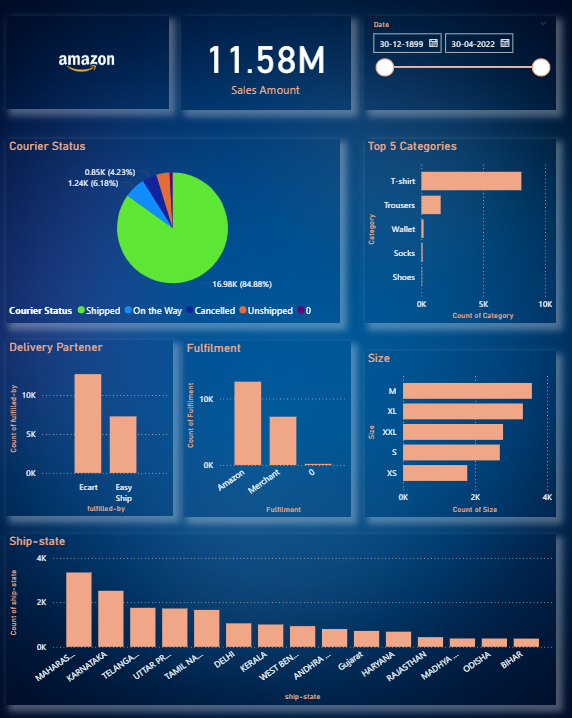

The dashboard page shown, as its layout file describes it:
{"tool":"powerbi","page":{"name":"Page 1","canvas":[816,1056],"ordinal":0},"visuals":[{"type":"image","box":[12.4,35.4,230,130.9],"z":0},{"type":"card","fields":{"Values":["Sum(Amazon Sale Report.Amount)"]},"box":[260.1,35.4,240.6,132.7],"z":1000},{"type":"slicer","fields":{"Values":["Amazon Sale Report.Date"]},"box":[520.2,35.4,270.7,132.7],"z":2000},{"type":"barChart","title":"Top 5 Categories","fields":{"Category":["Amazon Sale Report.Category"],"Y":["CountNonNull(Amazon Sale Report.Category)"]},"box":[520.2,208.8,270.7,261.9],"z":3000},{"type":"pieChart","title":"Courier Status ","fields":{"Category":["Amazon Sale Report.Courier Status"],"Y":["CountNonNull(Amazon Sale Report.Courier Status)"]},"box":[12.4,208.8,472.4,261.9],"z":4000},{"type":"columnChart","title":"Delivery Partener","fields":{"Category":["Amazon Sale Report.fulfilled-by"],"Y":["CountNonNull(Amazon Sale Report.fulfilled-by)"]},"box":[12.4,493.7,237.1,249.5],"z":5000},{"type":"columnChart","title":"Fulfilment ","fields":{"Category":["Amazon Sale Report.Fulfilment"],"Y":["CountNonNull(Amazon Sale Report.Fulfilment)"]},"box":[263.6,495.4,237.1,249.5],"z":6000},{"type":"clusteredBarChart","title":" Size","fields":{"Category":["Amazon Sale Report.Size"],"Y":["CountNonNull(Amazon Sale Report.Size)"]},"box":[520.2,509.6,270.7,235.3],"z":7000},{"type":"clusteredColumnChart","title":"Ship-state ","fields":{"Category":["Amazon Sale Report.ship-state"],"Y":["CountNonNull(Amazon Sale Report.ship-state)"]},"box":[12.4,767.9,778.6,242.4],"z":8000}]}

Visuals, with their boxes on the page's 816x1056 design canvas (x1, y1, x2, y2). These are canvas units, not pixel positions in the 572x718 screenshot, which may show the page scaled, cropped or inside an application window:
image: box(12, 35, 242, 166)
card - Sum(Amazon Sale Report.Amount): box(260, 35, 501, 168)
slicer - Amazon Sale Report.Date: box(520, 35, 791, 168)
"Top 5 Categories" barChart: box(520, 209, 791, 471)
"Courier Status " pieChart: box(12, 209, 485, 471)
"Delivery Partener" columnChart: box(12, 494, 250, 743)
"Fulfilment " columnChart: box(264, 495, 501, 745)
" Size" clusteredBarChart: box(520, 510, 791, 745)
"Ship-state " clusteredColumnChart: box(12, 768, 791, 1010)
